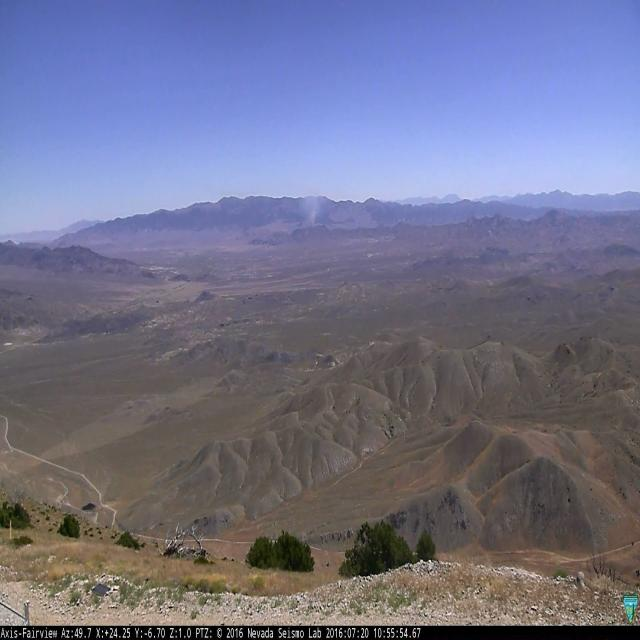smoke: (300, 195, 320, 221)
